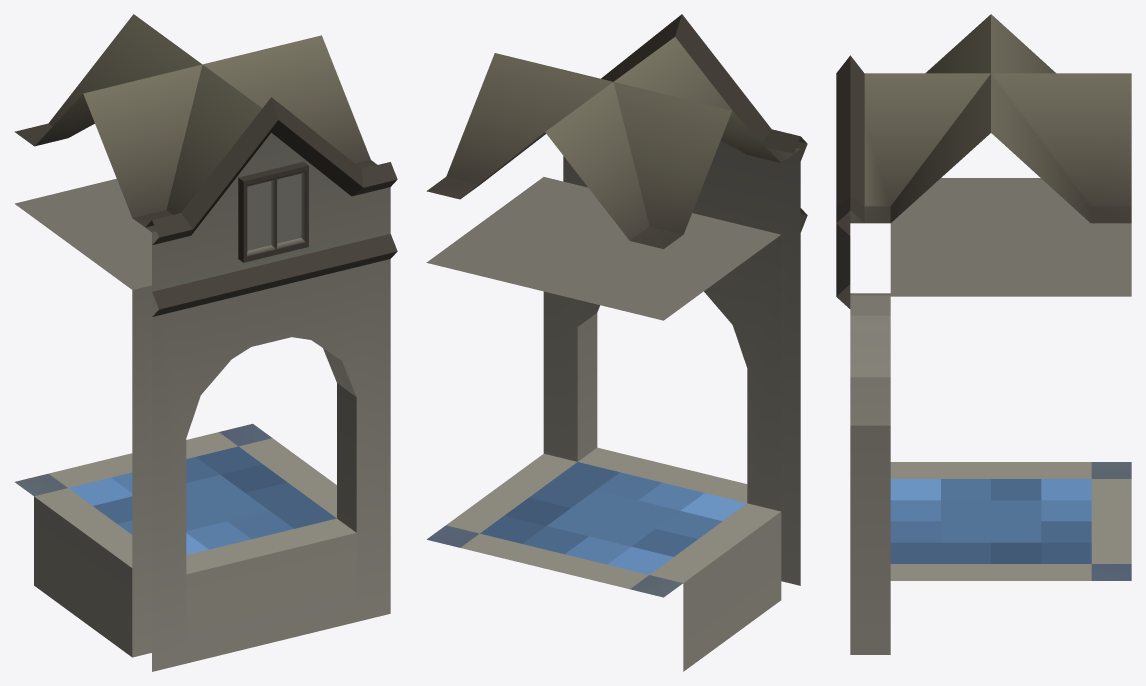
File: Archway_B.fbx
3 renders of one model, left to right at view 1: azimuth 30°, elevation 25°; view 2: azimuth 150°, elevation 25°; view 3: azimuth 270°, elevation 25°, orthographic. The views are drawn at different scales.
Visible parts, largest first — view 1: Archway_B; view 2: Archway_B; view 3: Archway_B.
Boxes of the visible parts, left/top/right/bottom form: Archway_B: left=14, top=14, right=397, bottom=671; Archway_B: left=426, top=14, right=807, bottom=671; Archway_B: left=836, top=14, right=1131, bottom=654.
Size of the model in its own units: 350 by 765 by 368.
